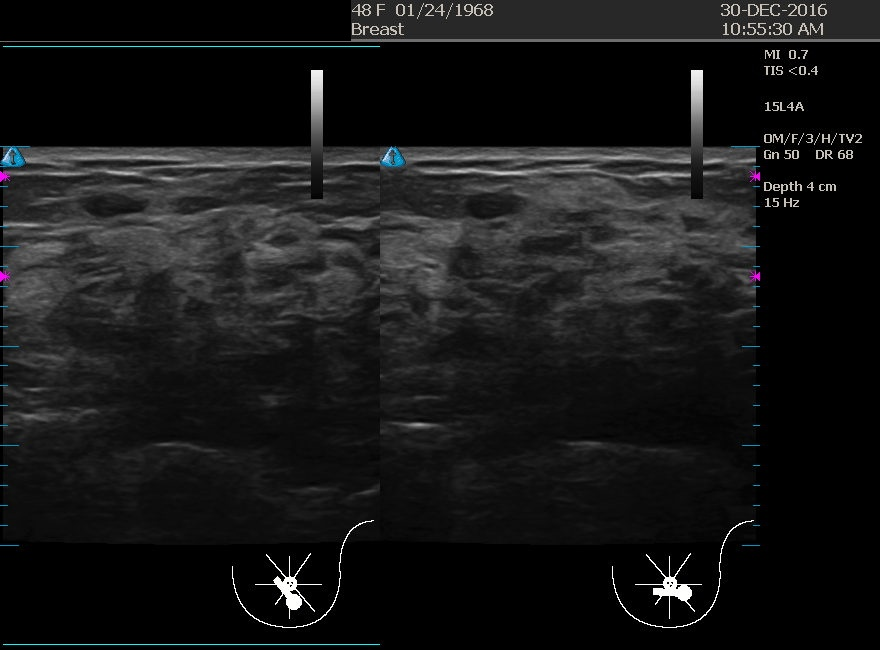BIRADS_2: (415, 155, 616, 355), (52, 163, 252, 363)
